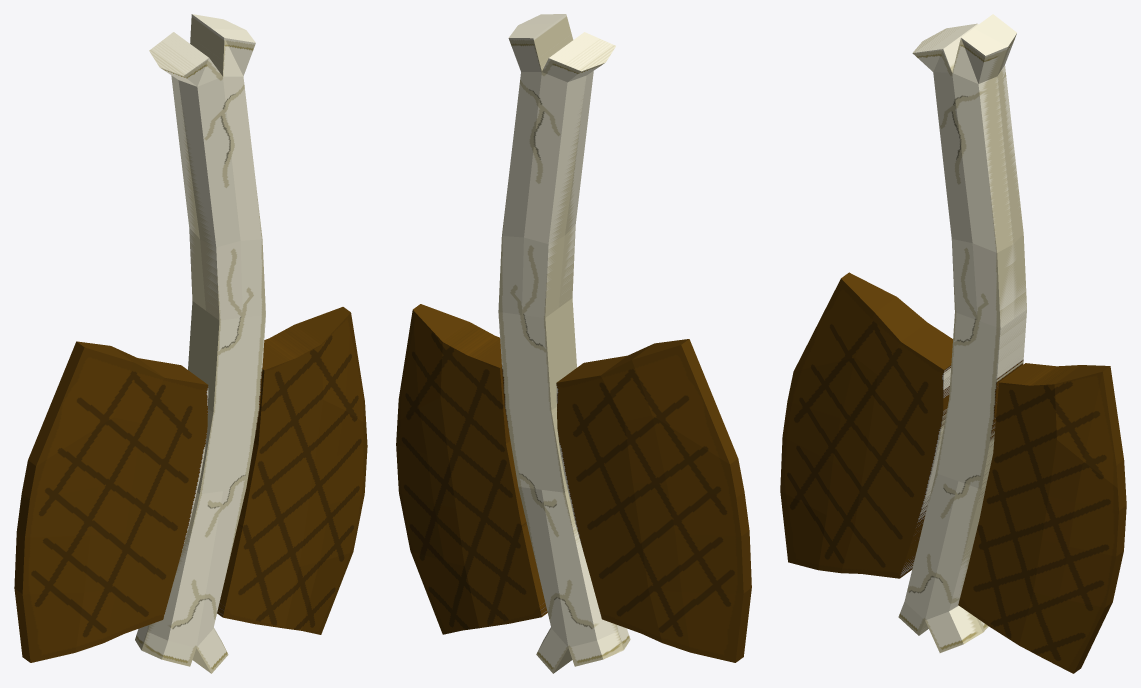
Rendered from Axe.fbx.
3 renders of one model, left to right at view 1: azimuth 30°, elevation 25°; view 2: azimuth 150°, elevation 25°; view 3: azimuth 330°, elevation 25°, orthographic. The views are drawn at different scales.
Visible parts, largest first — view 1: Meat_Axe.005; view 2: Meat_Axe.005; view 3: Meat_Axe.005.
Part boxes in pixels (left/top/right/bottom): Meat_Axe.005: left=14, top=14, right=367, bottom=673; Meat_Axe.005: left=396, top=14, right=751, bottom=673; Meat_Axe.005: left=780, top=14, right=1126, bottom=673.
Size of the model in its own units: 517 by 902 by 99.75.
1 material, 1 textured.
